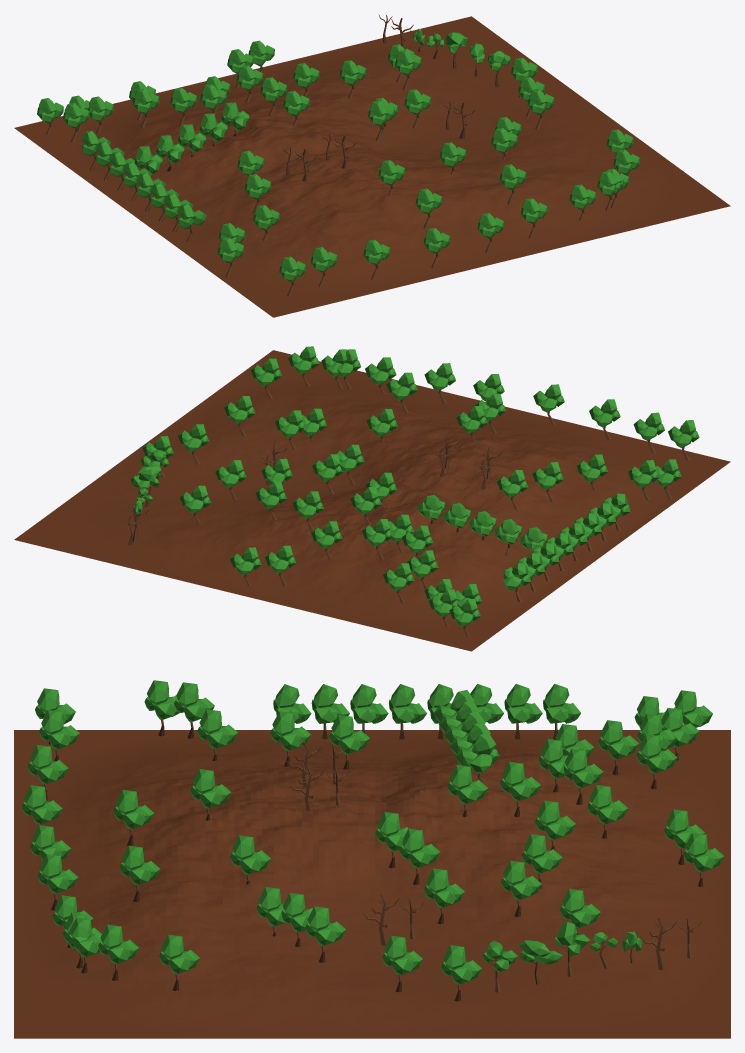
File: my_terrain.gltf
3 views of the same model, one above another, from view 1: azimuth 30°, elevation 25°; view 2: azimuth 150°, elevation 25°; view 3: azimuth 270°, elevation 25° (orthographic). The views are drawn at different scales.
Parts seen in each view (by area): view 1: Landscape, Tree_3.045, Tree_3.047, Tree_3.009, Tree_3.014, Tree_3.017, Tree_3.002, Tree_3.018, Tree_3.044, Tree_3.016, Tree_3.046, Tree_3.007 (+20 smaller); view 2: Landscape, Tree_3.045, Tree_3.047, Tree_3.009, Tree_3.035, Tree_3.001, Tree_3.010, Tree_3.002, Tree_3.016, Tree_3.017, Tree_3.018, Tree_3.032 (+32 smaller); view 3: Landscape, Tree_3.045, Tree_3.047, Tree_3.020, Tree_3.009, Tree_3, Tree_3.001, Tree_3.002, Tree_3.007, Tree_3.008, Tree_3.022, Tree_3.021 (+38 smaller).
Boxes of the visible parts, x1,y1,x2,y2 form: Landscape: [14, 16, 730, 317]; Tree_3.045: [81, 131, 206, 242]; Tree_3.047: [134, 102, 249, 174]; Tree_3.009: [499, 164, 526, 204]; Tree_3.014: [521, 198, 547, 238]; Tree_3.017: [363, 239, 390, 280]; Tree_3.002: [527, 89, 554, 129]; Tree_3.018: [310, 247, 337, 287]; Tree_3.044: [63, 103, 89, 142]; Tree_3.016: [423, 228, 450, 268]; Tree_3.046: [279, 256, 306, 296]; Tree_3.007: [415, 188, 442, 228]; Landscape: [14, 350, 730, 651]; Tree_3.045: [503, 493, 630, 602]; Tree_3.047: [418, 495, 547, 556]; Tree_3.009: [386, 372, 417, 413]; Tree_3.035: [292, 491, 323, 531]; Tree_3.001: [178, 424, 209, 464]; Tree_3.010: [288, 346, 319, 386]; Tree_3.002: [224, 396, 255, 436]; Tree_3.016: [533, 384, 564, 424]; Tree_3.017: [589, 399, 620, 439]; Tree_3.018: [633, 412, 664, 453]; Tree_3.032: [628, 460, 659, 500]; Landscape: [14, 730, 730, 1038]; Tree_3.045: [273, 683, 580, 739]; Tree_3.047: [433, 690, 499, 784]; Tree_3.020: [501, 860, 541, 916]; Tree_3.009: [119, 845, 160, 902]; Tree_3: [441, 945, 481, 1001]; Tree_3.001: [382, 935, 422, 992]; Tree_3.002: [305, 906, 345, 962]; Tree_3.007: [113, 789, 154, 845]; Tree_3.008: [159, 934, 199, 990]; Tree_3.022: [399, 828, 440, 884]; Tree_3.021: [424, 868, 464, 924].
Bounding box in the file's own units: 8.65 × 1.2 × 8.48.
